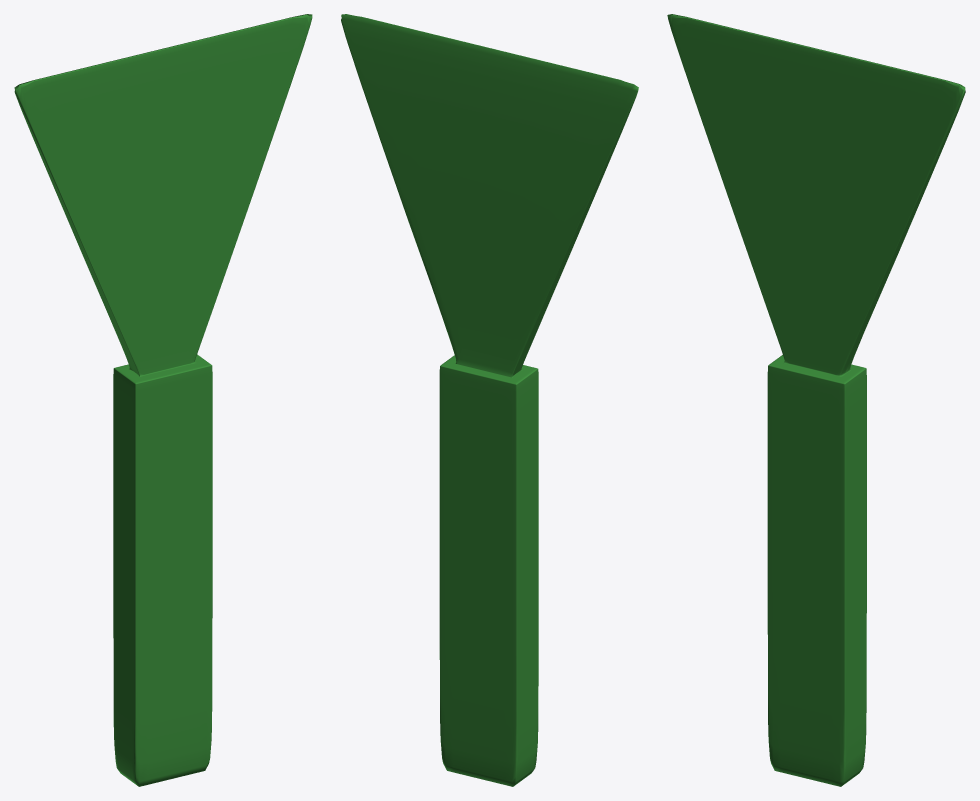
The model's file is SpatulaEmerald02.fbx.
3 renders of one model, left to right at view 1: azimuth 30°, elevation 25°; view 2: azimuth 150°, elevation 25°; view 3: azimuth 330°, elevation 25°, orthographic.
Parts seen in each view (by area): view 1: pasted__pasted__HighPoly2; view 2: pasted__pasted__HighPoly2; view 3: pasted__pasted__HighPoly2.
Boxes of the visible parts, <box> form: pasted__pasted__HighPoly2: <box>14,14,312,786</box>; pasted__pasted__HighPoly2: <box>341,14,638,786</box>; pasted__pasted__HighPoly2: <box>667,14,965,786</box>.
Bounding box in the file's own units: 7.69 × 17.84 × 1.
